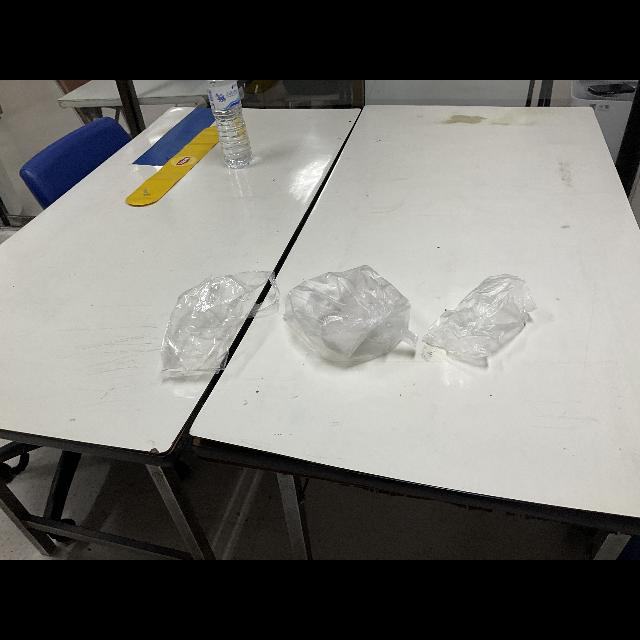plastic_bag: (274, 264, 422, 374), (142, 272, 282, 384)
scrap_plastic: (413, 259, 547, 371)
